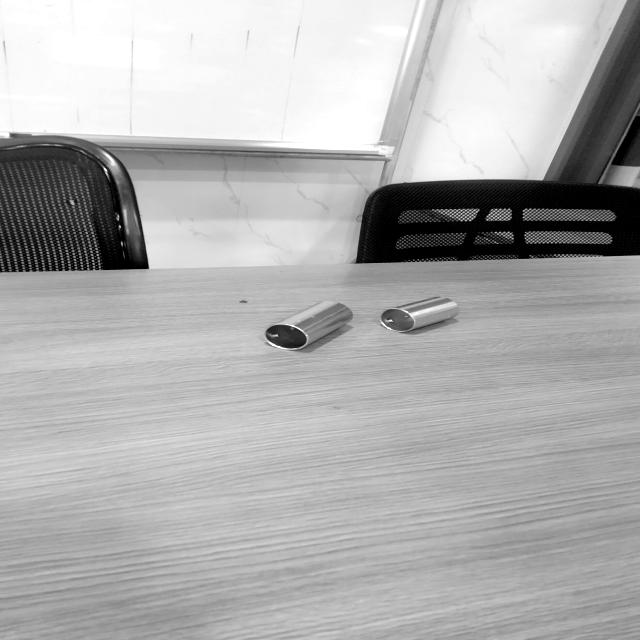Co_Lon: (261, 288, 356, 363)
Co_Nho: (378, 290, 461, 339)
